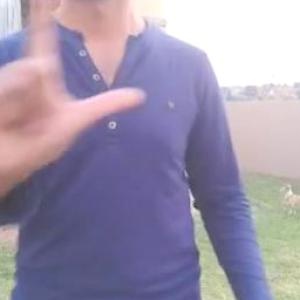land_hand: (0, 0, 156, 196)
